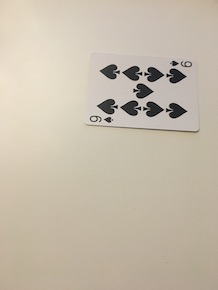NineOfSpades: (81, 46, 205, 136)
